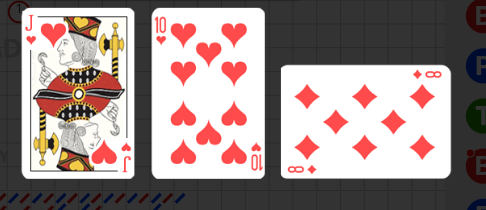10H: (153, 14, 168, 46), (248, 140, 262, 171)
8D: (410, 68, 442, 80)
